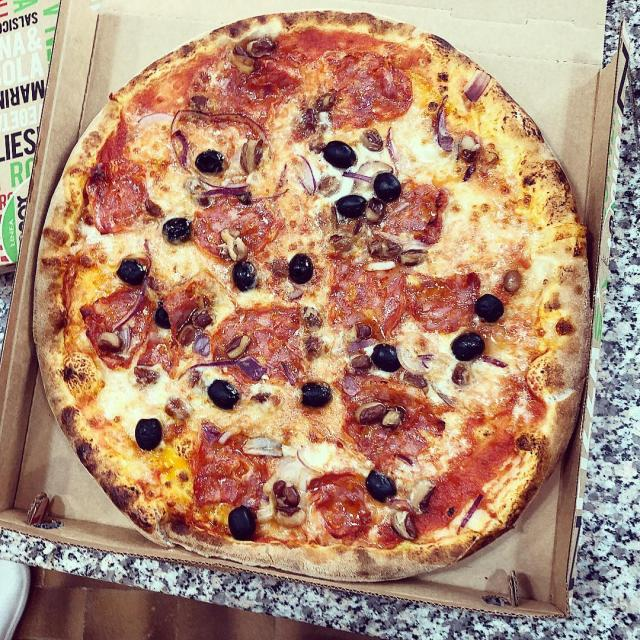black_olives: (205, 377, 241, 411), (449, 331, 487, 362), (133, 418, 165, 452), (228, 504, 256, 541), (322, 140, 356, 170), (364, 469, 398, 498), (298, 380, 332, 408), (116, 255, 146, 286), (474, 292, 504, 322), (161, 216, 193, 244), (232, 255, 256, 292), (373, 342, 402, 372), (374, 172, 402, 202), (335, 194, 368, 219), (288, 253, 313, 286), (196, 148, 227, 174), (152, 303, 176, 328)
pepperoni: (336, 371, 446, 469), (211, 305, 307, 385), (191, 421, 270, 514), (328, 52, 415, 132), (184, 59, 284, 126), (329, 254, 407, 338), (79, 288, 156, 371), (190, 195, 279, 259), (399, 266, 482, 333), (84, 157, 154, 236), (374, 178, 450, 245), (306, 471, 373, 540)
pizza: (31, 7, 594, 585)
